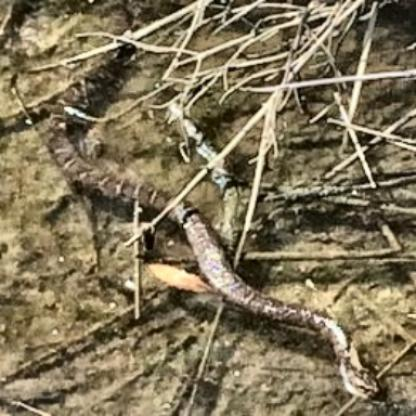Snake: (0, 72, 415, 406)
